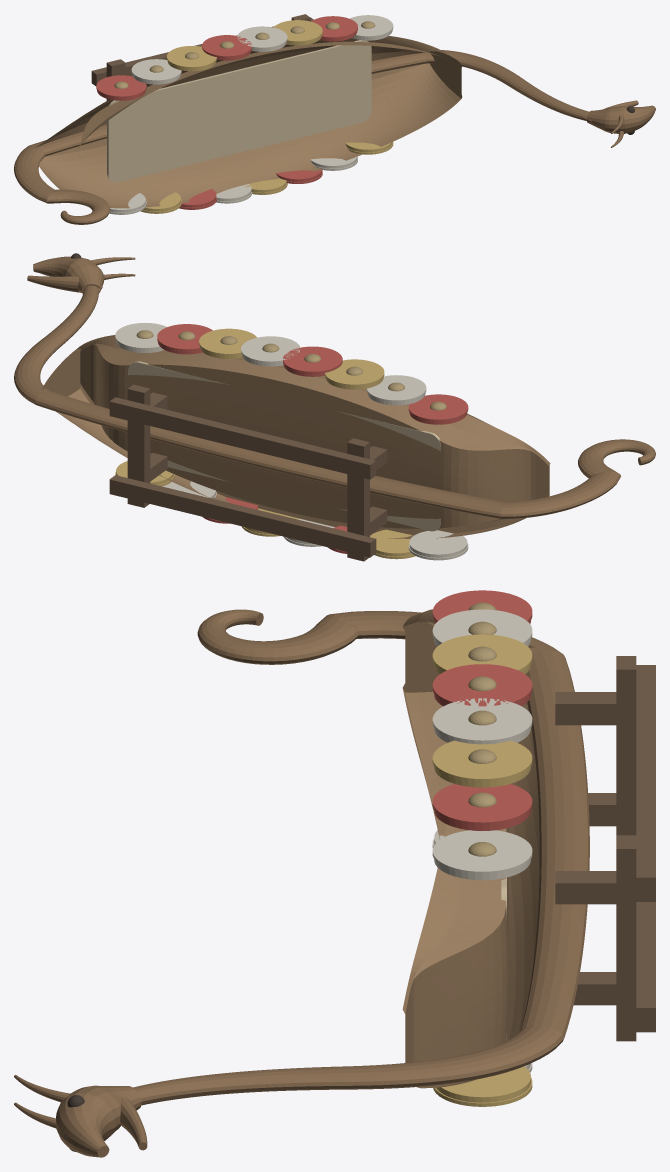
Rendered from viking_sushi_boat_carved_only.glb.
The picture shows the model from 3 angles, top to bottom: view 1: azimuth 30°, elevation 25°; view 2: azimuth 150°, elevation 25°; view 3: azimuth 270°, elevation 25°; orthographic projection. The views are drawn at different scales.
Parts seen in each view (by area): view 1: part_009, part_000, part_001, part_002, part_029, part_011, part_035, part_017, part_023, part_041, part_047, part_053 (+9 smaller); view 2: part_000, part_001, part_059, part_058, part_009, part_060, part_063, part_002, part_013, part_029, part_011, part_017 (+7 smaller); view 3: part_001, part_000, part_058, part_060, part_002, part_063, part_053, part_035, part_047, part_041, part_029, part_059 (+9 smaller).
Part boxes in pixels (left/top/right/bottom): part_009: left=107, top=40, right=371, bottom=182; part_000: left=35, top=36, right=462, bottom=208; part_001: left=14, top=50, right=589, bottom=224; part_002: left=586, top=105, right=655, bottom=133; part_029: left=202, top=35, right=252, bottom=57; part_011: left=96, top=75, right=146, bottom=98; part_035: left=237, top=26, right=287, bottom=49; part_017: left=131, top=59, right=181, bottom=82; part_023: left=167, top=46, right=216, bottom=68; part_041: left=274, top=20, right=322, bottom=42; part_047: left=311, top=16, right=357, bottom=38; part_053: left=350, top=15, right=393, bottom=37; part_000: left=41, top=335, right=550, bottom=538; part_001: left=14, top=285, right=655, bottom=518; part_059: left=109, top=475, right=376, bottom=557; part_058: left=109, top=397, right=376, bottom=479; part_009: left=128, top=361, right=440, bottom=531; part_060: left=127, top=384, right=150, bottom=507; part_063: left=347, top=438, right=369, bottom=561; part_002: left=33, top=256, right=104, bottom=293; part_013: left=409, top=530, right=467, bottom=557; part_029: left=283, top=346, right=342, bottom=373; part_011: left=408, top=394, right=468, bottom=421; part_017: left=366, top=375, right=426, bottom=402; part_001: left=133, top=609, right=589, bottom=1105; part_000: left=402, top=609, right=554, bottom=1088; part_058: left=636, top=665, right=655, bottom=901; part_060: left=616, top=835, right=636, bottom=1041; part_002: left=56, top=1085, right=141, bottom=1157; part_063: left=616, top=656, right=636, bottom=835; part_053: left=432, top=830, right=532, bottom=875; part_035: left=432, top=698, right=532, bottom=743; part_047: left=432, top=784, right=532, bottom=825; part_041: left=432, top=740, right=532, bottom=782; part_029: left=432, top=664, right=532, bottom=706; part_059: left=636, top=902, right=655, bottom=1032.
Size of the model in its own units: 711 by 188 by 357.
